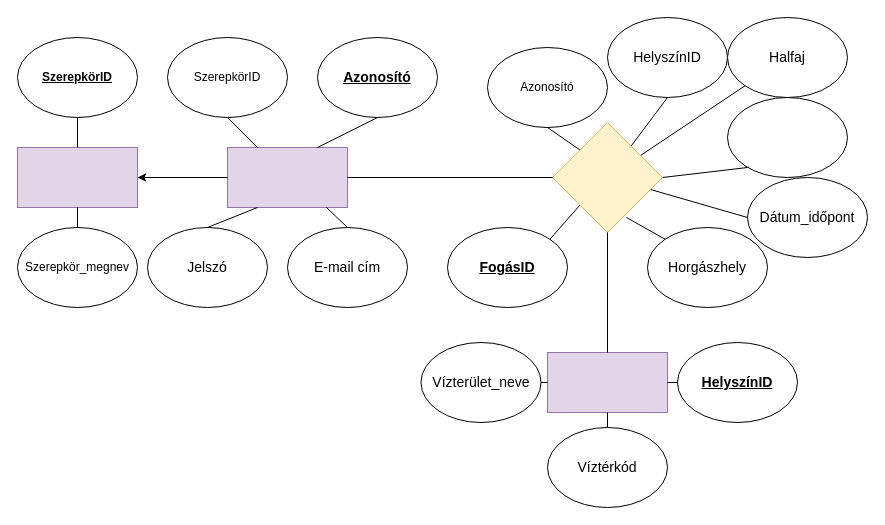
The diagram is 885 pixels wide and 525 high, and some of its shapes have lost their labels. Each missing label, with the box of its shape:
Felhasználók: (226, 146, 348, 208)
Fogások: (552, 122, 662, 232)
Helyszínek: (546, 352, 668, 412)
Szerepkörök: (16, 146, 138, 208)
Súly: (726, 96, 848, 178)
